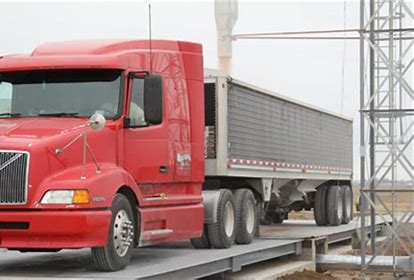Industrial Scale: (1, 216, 404, 280)
